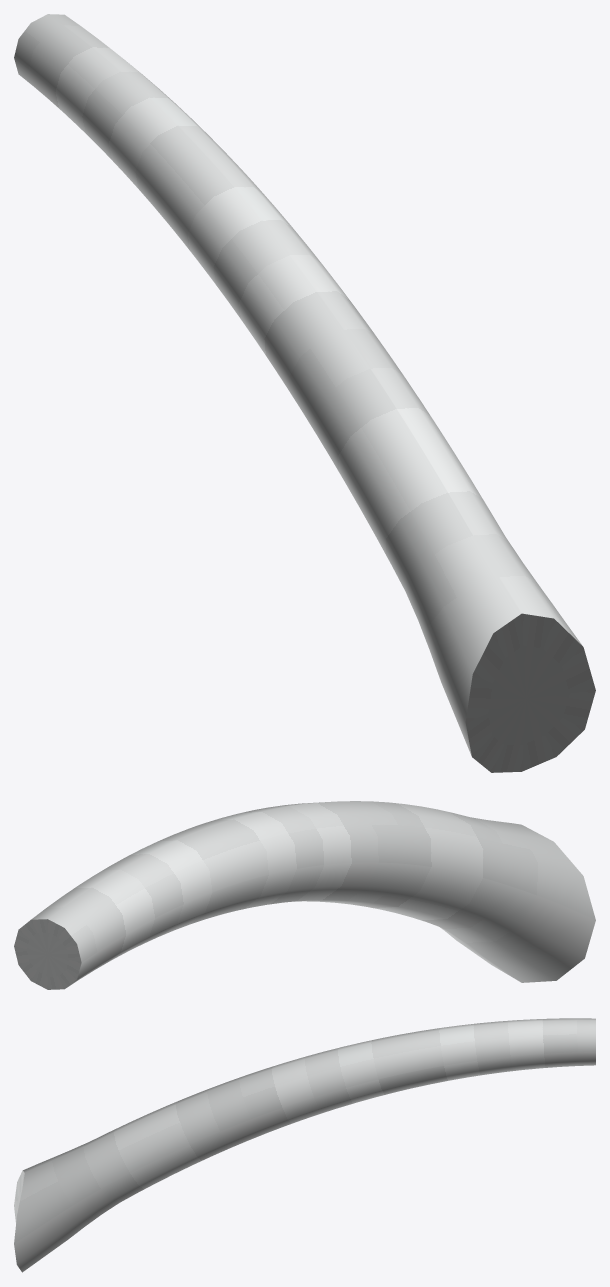
The model's file is luminairearm_caltrans6ft_inv.obj.
3 renders of one model, top to bottom at view 1: azimuth 30°, elevation 25°; view 2: azimuth 150°, elevation 25°; view 3: azimuth 270°, elevation 25°, orthographic. The views are drawn at different scales.
Parts seen in each view (by area): view 1: luminairearm_caltrans6ft_inv; view 2: luminairearm_caltrans6ft_inv; view 3: luminairearm_caltrans6ft_inv.
Boxes of the visible parts, x1,y1,x2,y2 form: luminairearm_caltrans6ft_inv: [14, 14, 595, 772]; luminairearm_caltrans6ft_inv: [14, 801, 595, 989]; luminairearm_caltrans6ft_inv: [14, 1018, 595, 1272].
Bounding box in the file's own units: 0.1559 × 0.4696 × 1.
